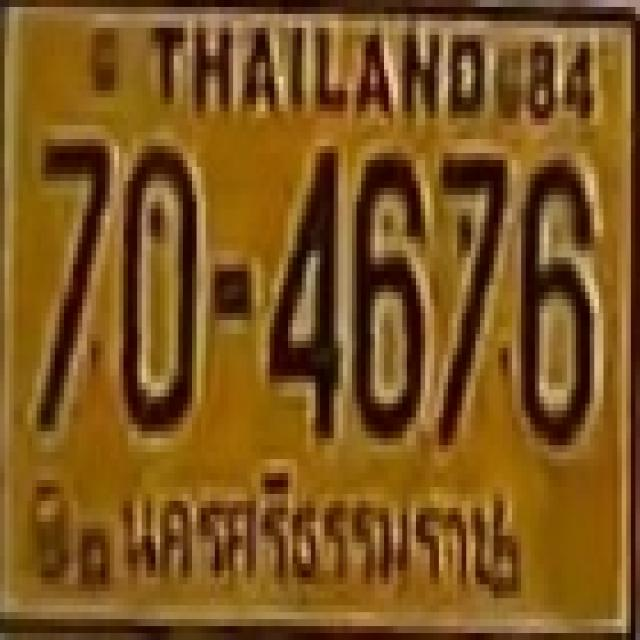0: (119, 139, 196, 424)
4: (265, 139, 334, 431)
6: (516, 153, 590, 438), (350, 146, 423, 431)
7: (32, 133, 105, 424), (434, 146, 503, 438)
NRT: (112, 466, 510, 602)
